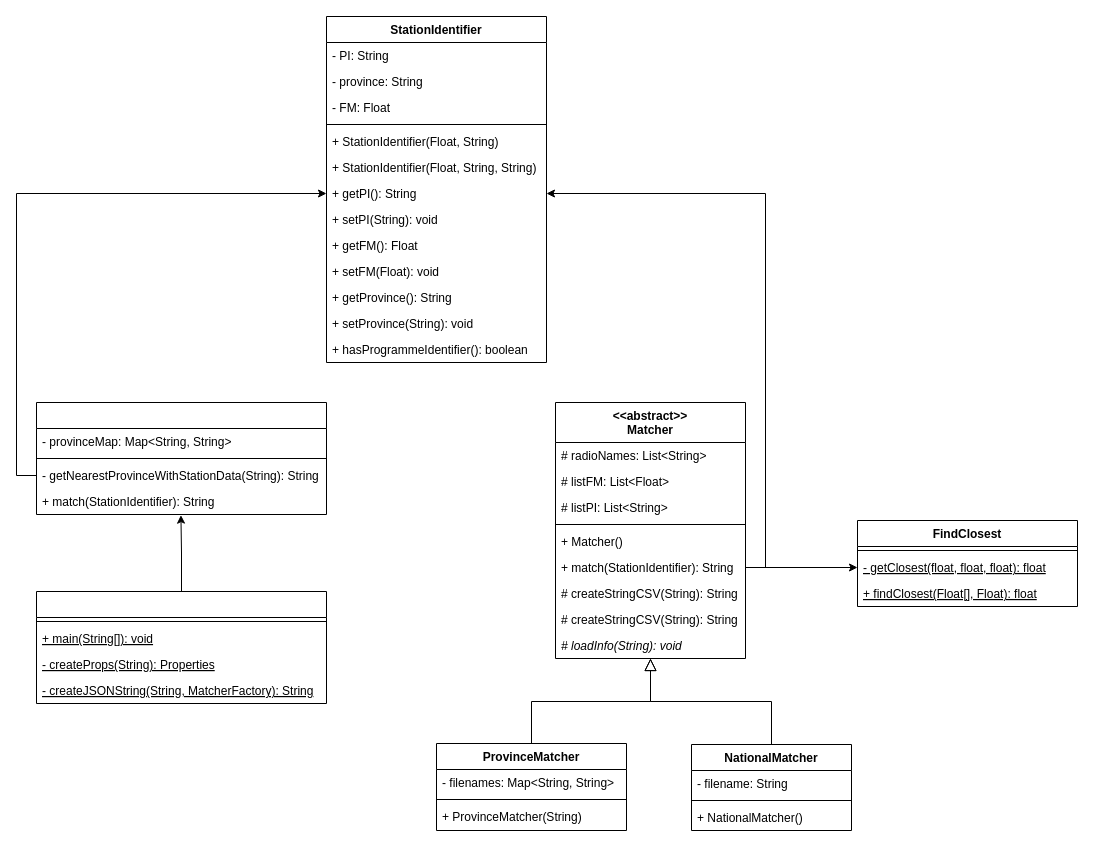
Image size: 1094x847. Some labels were removed from this diagram. The box of each missing label's shape, as (x1, y1, x2, y2) in pixels:
FMapServerStreaming: (36, 590, 326, 704)
MatcherFactory: (36, 402, 326, 514)
